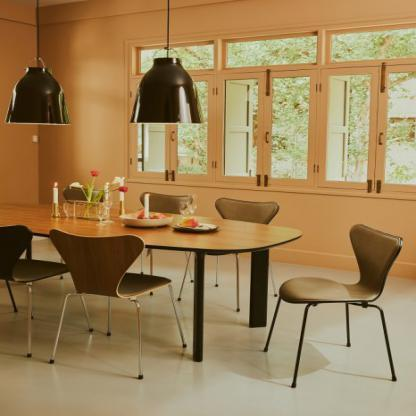chair: (259, 219, 406, 392), (48, 223, 195, 381), (3, 217, 103, 359), (184, 193, 282, 309), (138, 192, 202, 292)
light: (127, 4, 208, 128), (4, 0, 74, 129)
table: (0, 204, 301, 362)
